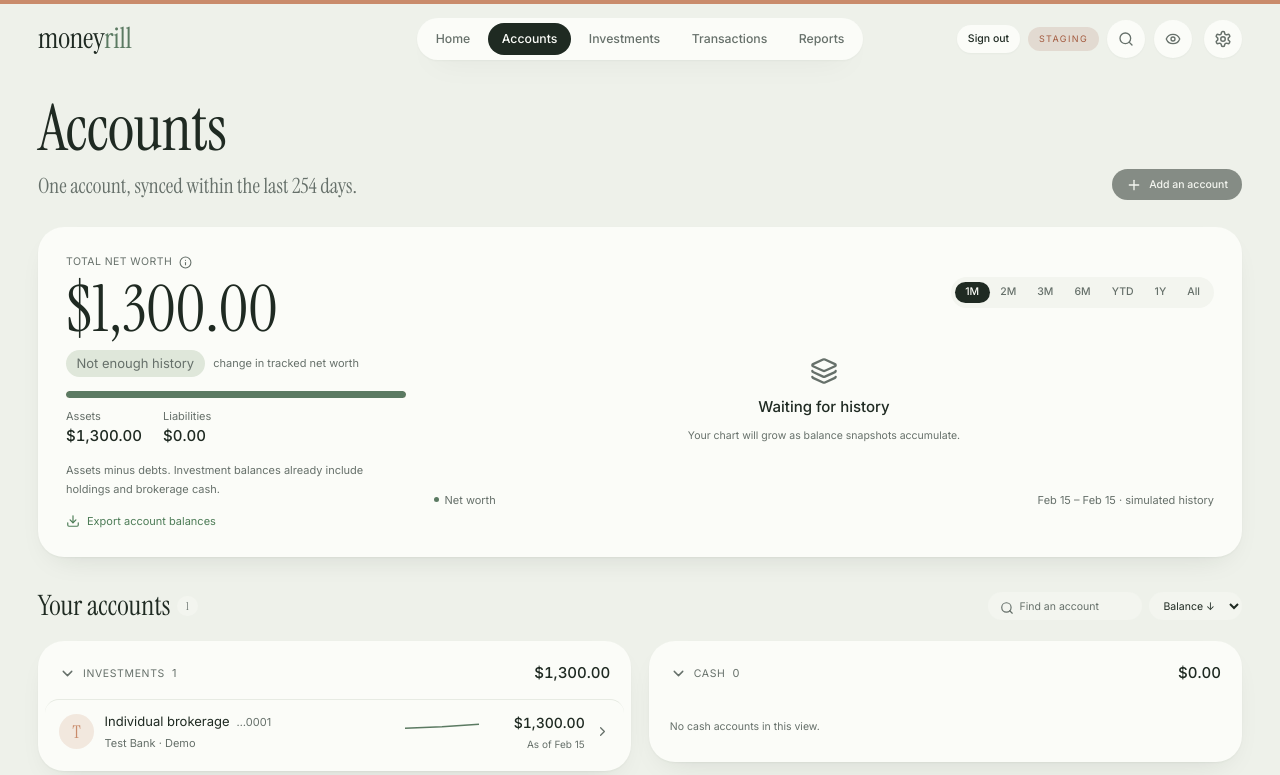
Test: Portfolio return › when the cash flows are known only from Feb 1 the span opens Jan 31 with its balance, and says why
The width and height of the screenshot is (1280, 775).
Expected: the text "TOTAL NET WORTH" is shown, [66,255,192,269]
Click the link "Investments" at (624, 38), box [589,31,660,46]
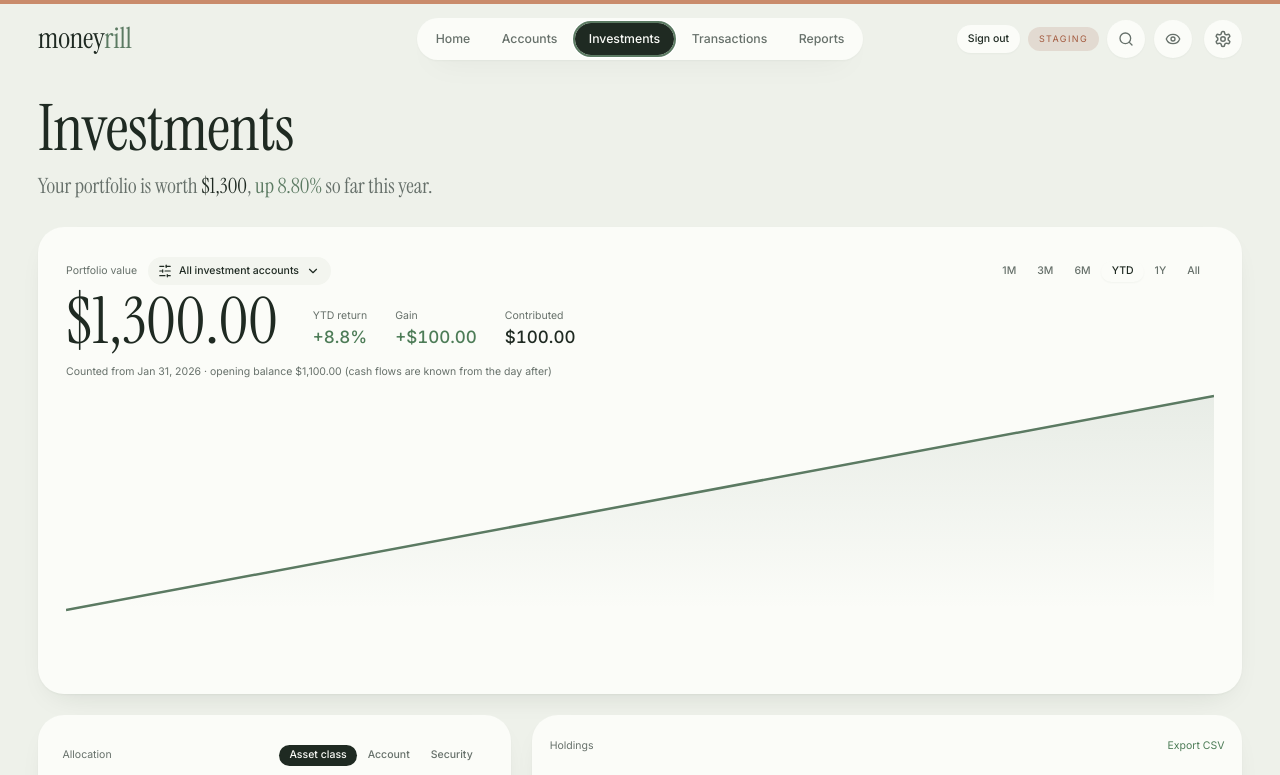
Result: the text "Portfolio value" is shown at [66,264,137,278]
Result: the text with test id "counted-from" shows "Counted from Jan 31, 2026 · opening balance $1,100.00" at [66,365,552,378]
Result: the text with test id "counted-from" shows "cash flows are known from the day after" at [342,365,552,378]
